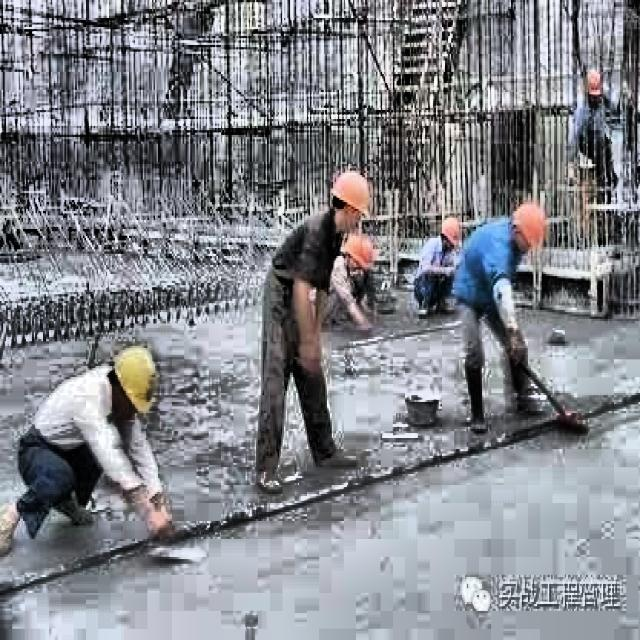helmet: (105, 337, 162, 427), (325, 166, 373, 240), (509, 200, 546, 260), (344, 234, 379, 274), (580, 61, 609, 108), (438, 211, 468, 252)
